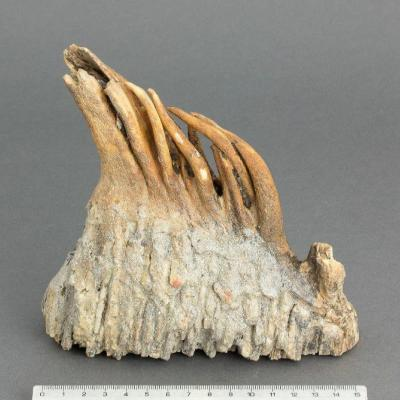natural_science_collection: (40, 44, 360, 362)
